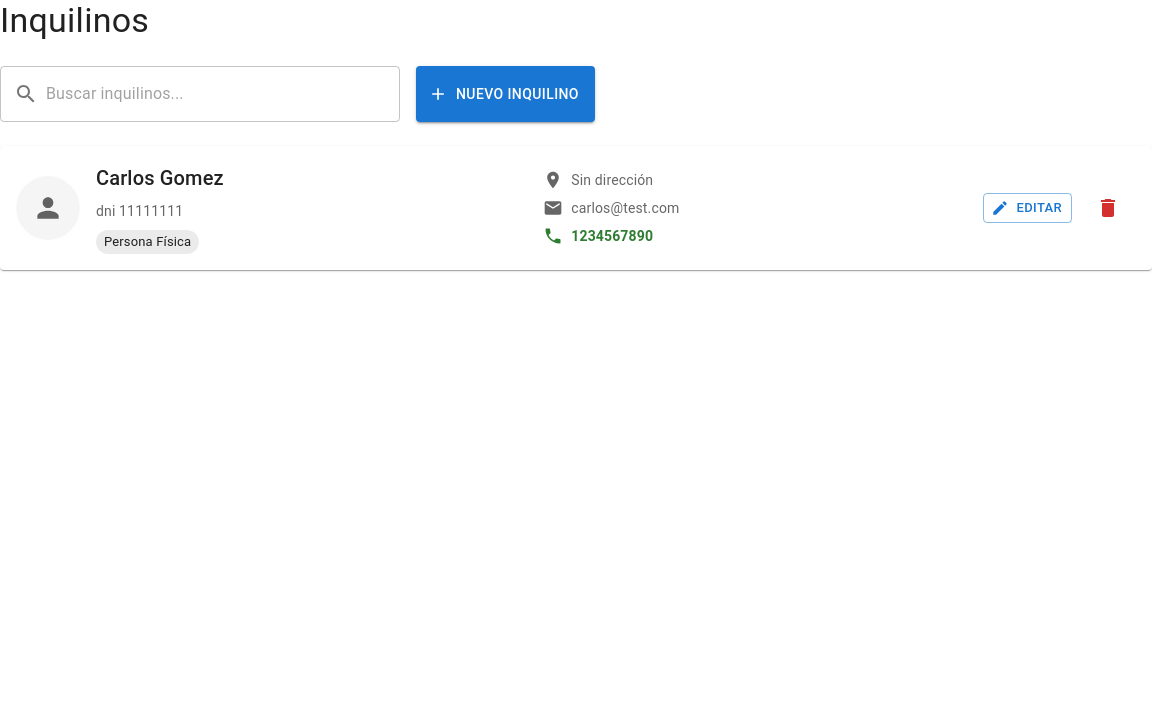
InquilinosPage Component › opens delete confirmation and deletes record when confirmed
Expected: the heading "Carlos Gomez" is shown, [96, 166, 224, 190]
Note: Find delete button
Click the button named "eliminar carlos gomez" at (1108, 208), box [1088, 188, 1128, 228]
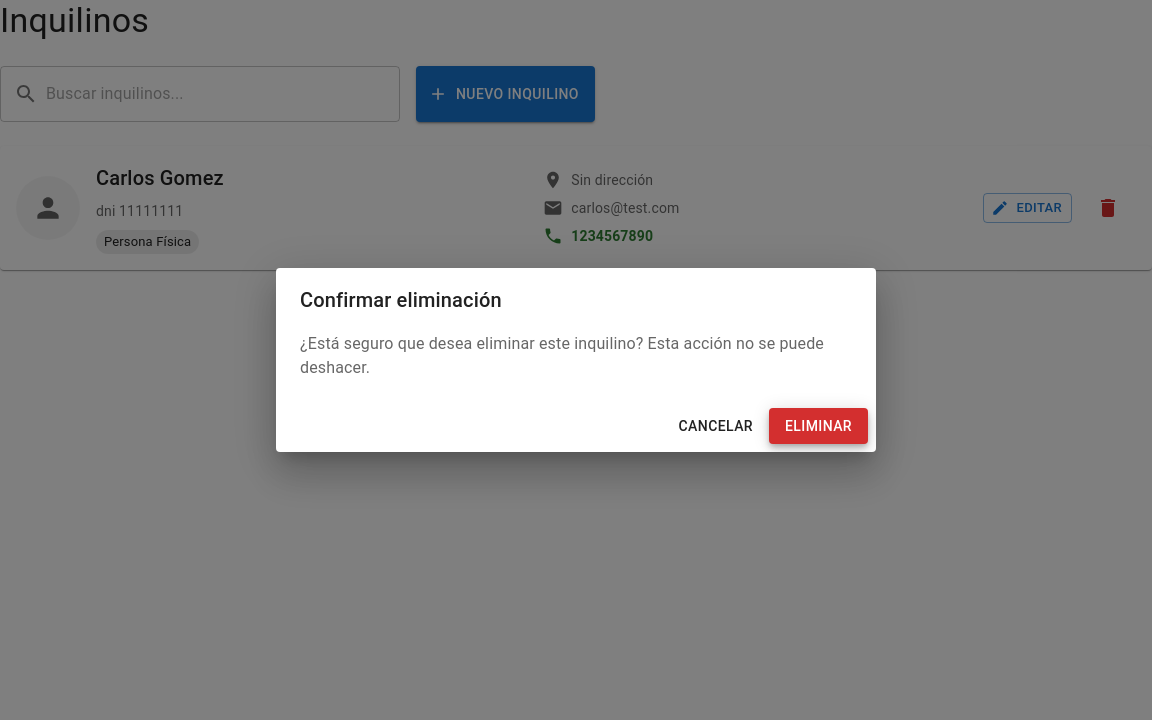
Now the dialog "Confirmar eliminación" is shown, box [276, 268, 876, 452]
Note: Confirm delete
Click the button "Eliminar" at (818, 426), box [769, 408, 868, 444]
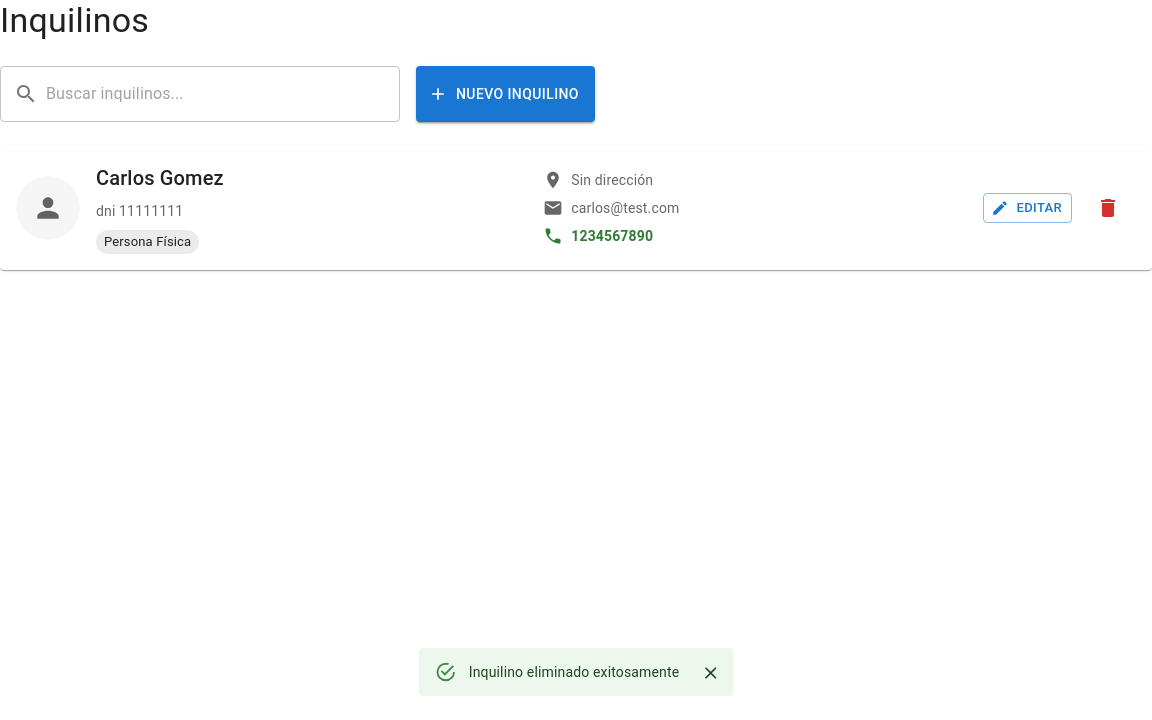
Now the text "Inquilino eliminado exitosamente" is shown, box [469, 664, 679, 680]
